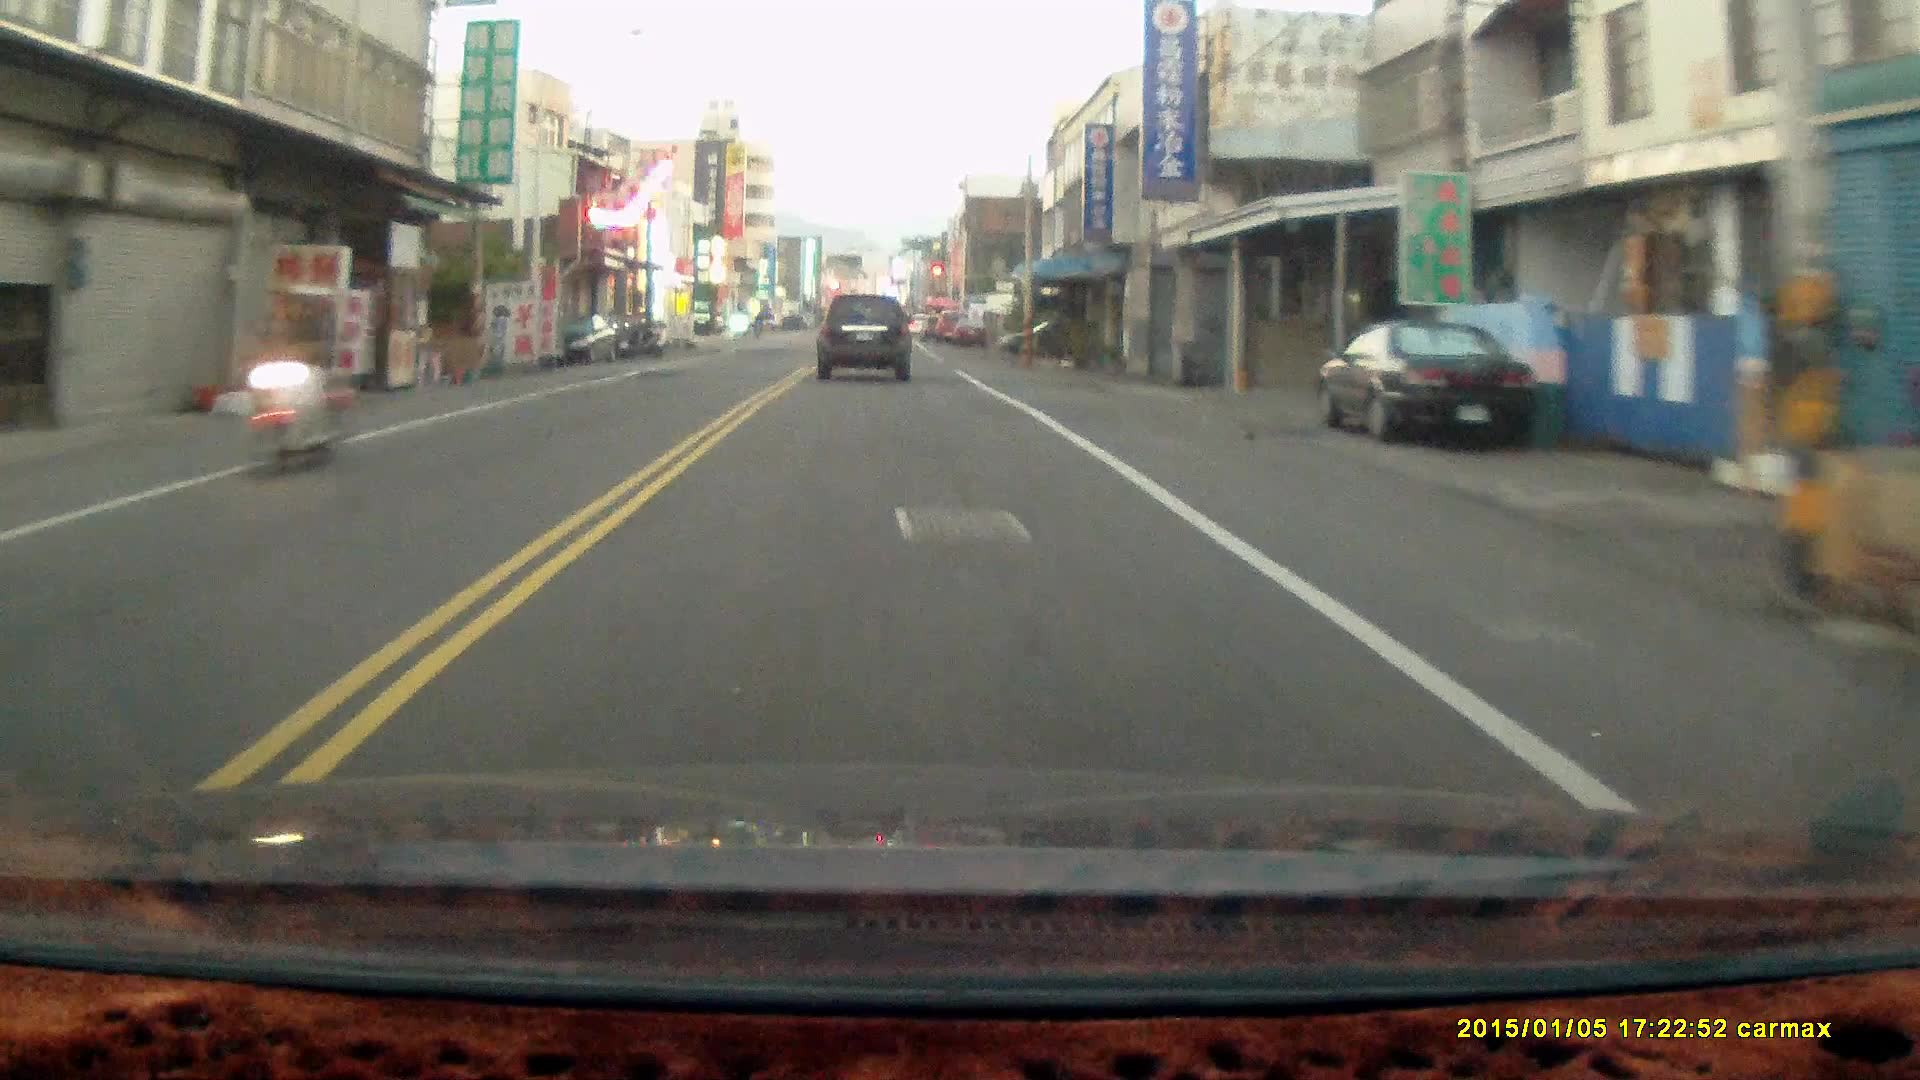rider: (237, 285, 347, 479)
vehicle: (1320, 313, 1547, 447), (816, 290, 914, 381)
